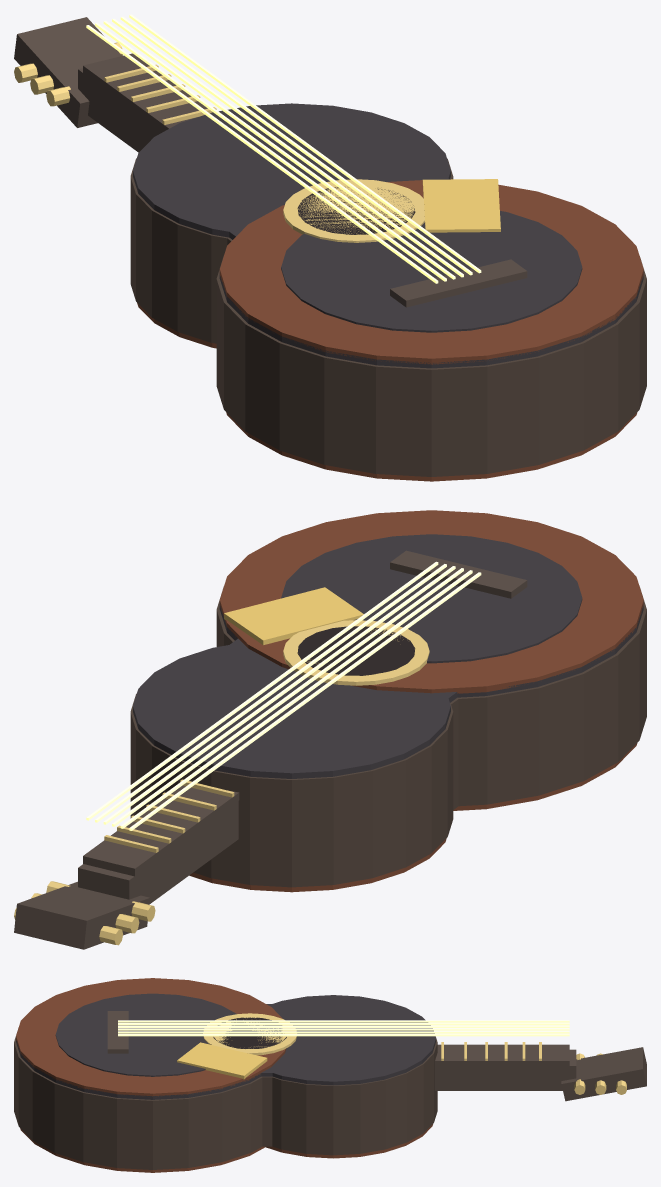
Rendered from requiem.glb.
3 views of the same model, one above another, from view 1: azimuth 30°, elevation 25°; view 2: azimuth 150°, elevation 25°; view 3: azimuth 270°, elevation 25° (orthographic). The views are drawn at different scales.
Parts seen in each view (by area): view 1: Body; view 2: Body; view 3: Body.
Part boxes in pixels (box(x1,y1,x2,y2)): Body: box(14, 14, 646, 481); Body: box(14, 510, 646, 949); Body: box(14, 978, 646, 1172).
Size of the model in its own units: 0.4 by 0.1392 by 0.9116.
